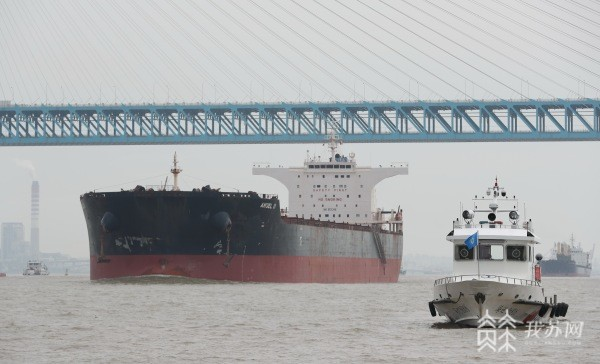Cargoship: (73, 135, 414, 288)
otherboat: (426, 180, 564, 332)
